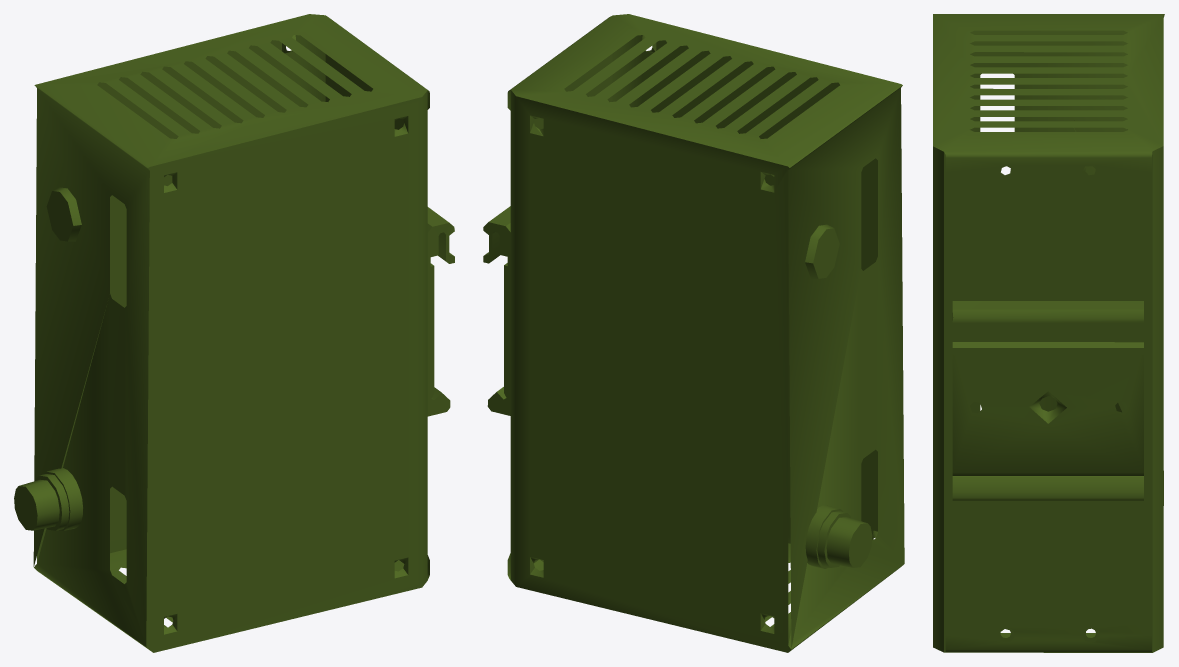
File: IPI-85-250-12_1.fbx
The picture shows the model from 3 angles, left to right: view 1: azimuth 30°, elevation 25°; view 2: azimuth 150°, elevation 25°; view 3: azimuth 270°, elevation 25°; orthographic projection. The views are drawn at different scales.
Visible parts, largest first — view 1: IPI-85-250-12_1; view 2: IPI-85-250-12_1; view 3: IPI-85-250-12_1.
Boxes of the visible parts, bbox=[...] form: IPI-85-250-12_1: bbox=[14, 14, 454, 652]; IPI-85-250-12_1: bbox=[483, 14, 904, 652]; IPI-85-250-12_1: bbox=[933, 14, 1164, 652].
Size of the model in its own units: 98.83 by 130 by 54.52.
